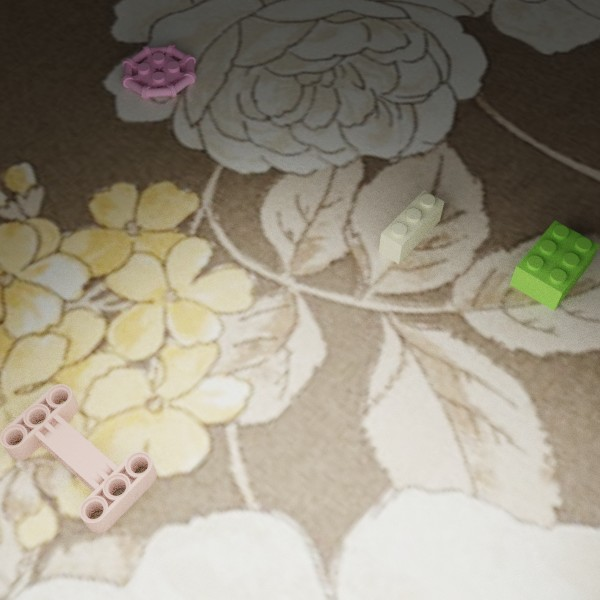lego: (0, 384, 156, 533), (509, 220, 600, 310), (378, 189, 444, 264), (121, 44, 196, 99)
